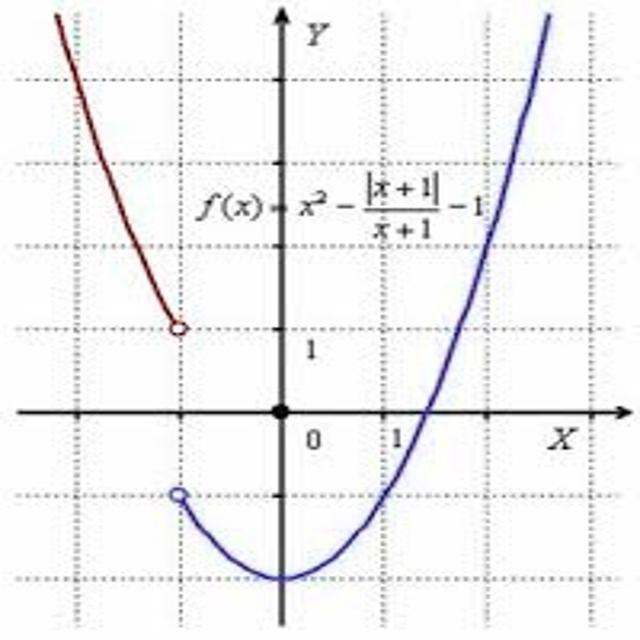axis: (270, 2, 291, 635), (15, 406, 640, 423)
line: (169, 9, 555, 583), (51, 10, 182, 331)
